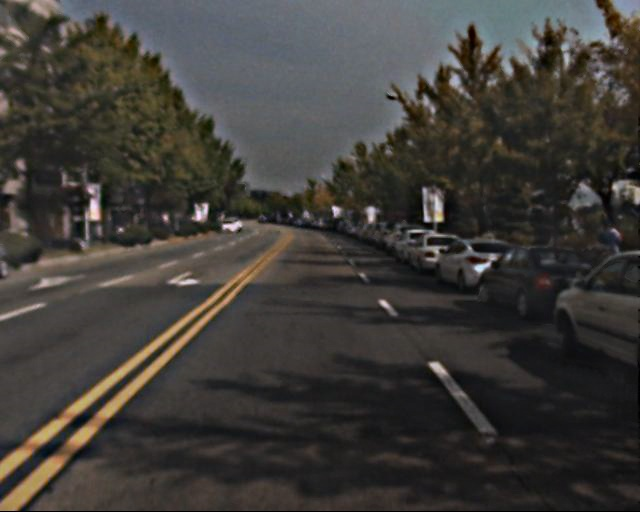person: (586, 220, 621, 284)
